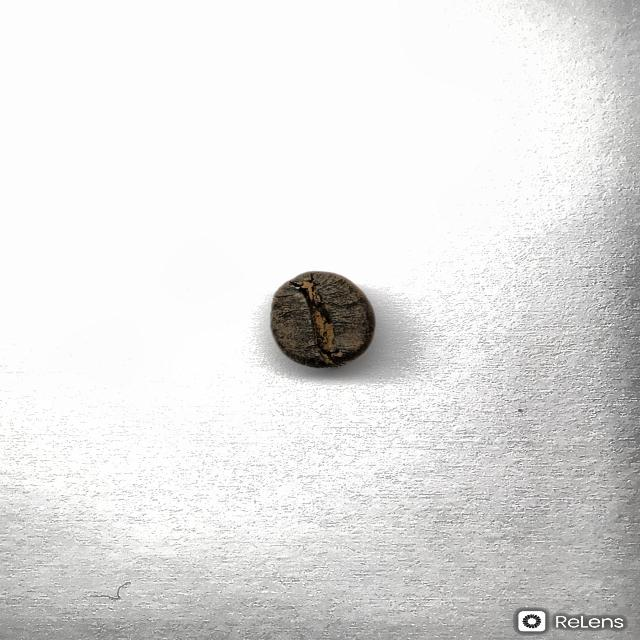Black: (268, 270, 377, 369)
